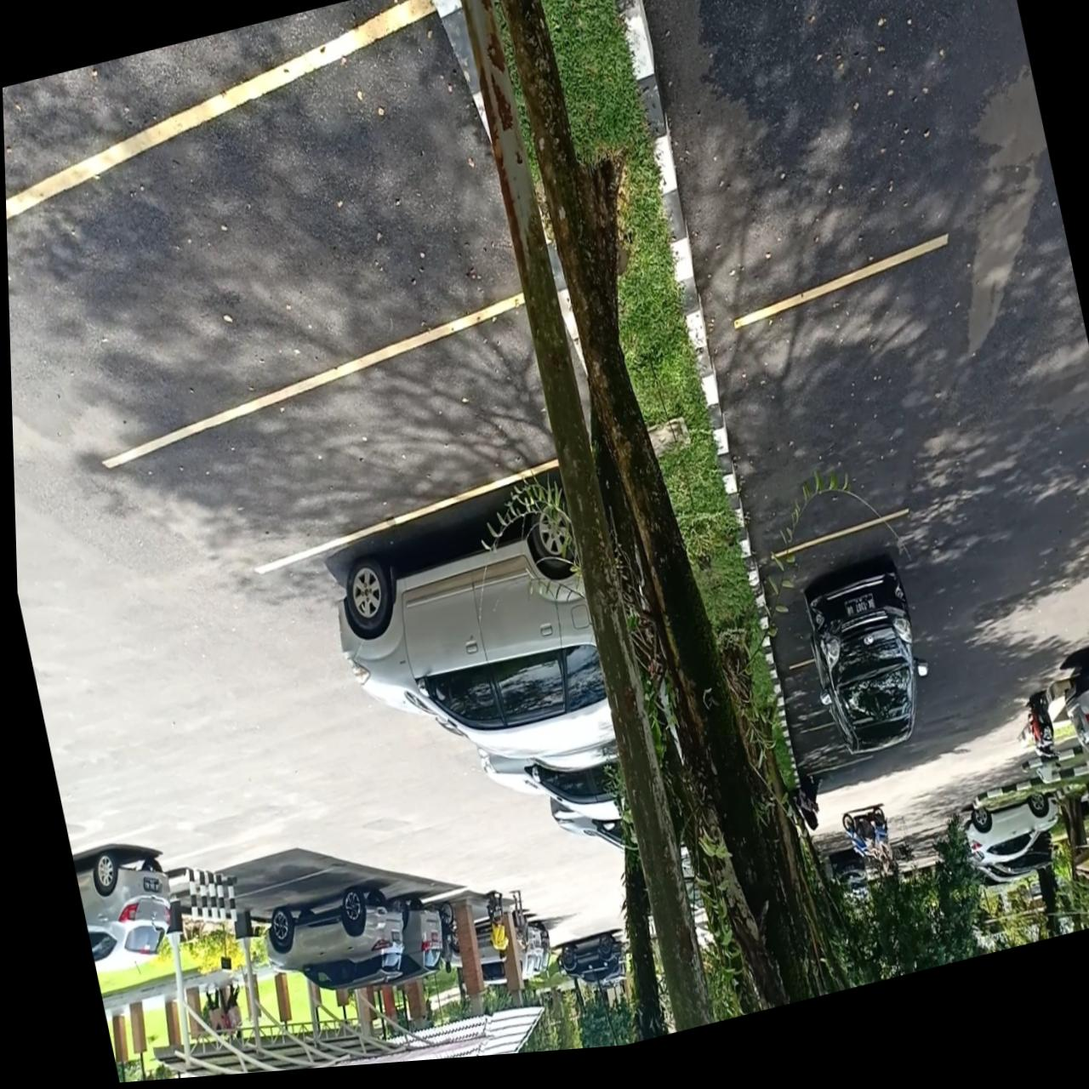cars: (748, 511, 906, 674)
empty: (6, 0, 563, 464), (108, 285, 614, 570), (735, 244, 947, 554), (207, 868, 377, 910)
